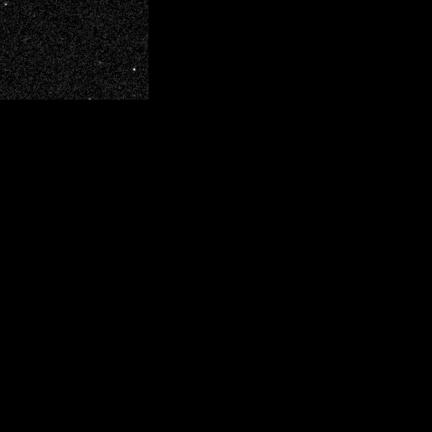blob: (133, 68, 136, 71)
